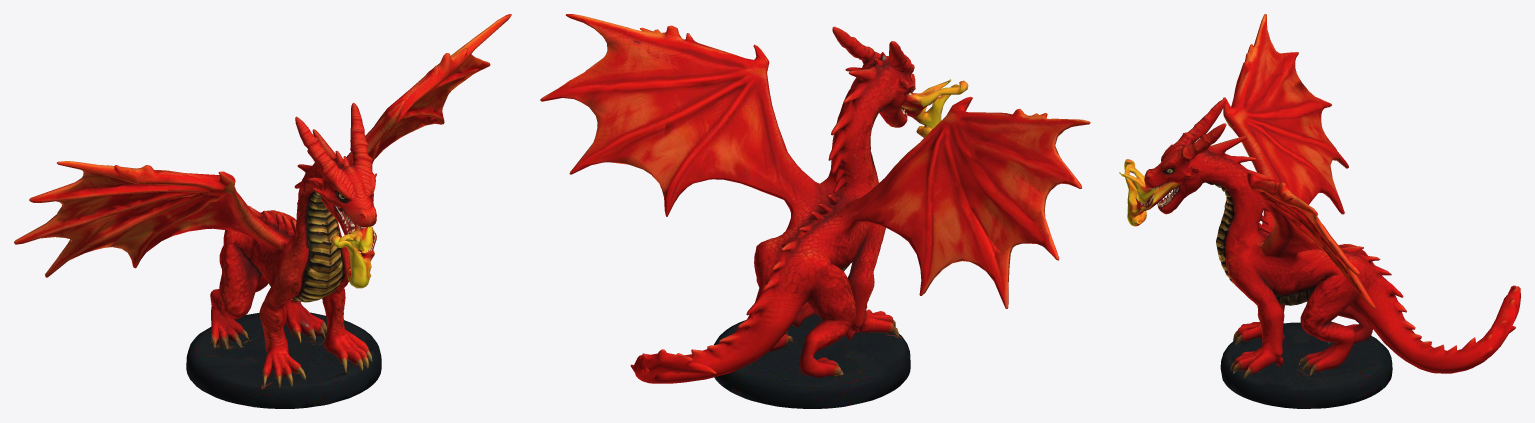
Rendered from fire_dragon.glb.
The picture shows the model from 3 angles, left to right: view 1: azimuth 30°, elevation 25°; view 2: azimuth 150°, elevation 25°; view 3: azimuth 270°, elevation 25°; orthographic projection. The views are drawn at different scales.
Bounding box in the file's own units: 1.9 × 1.08 × 1.51.
1 material, 1 textured.
